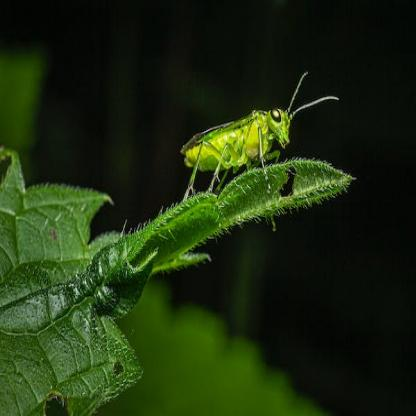sawfly: (178, 63, 342, 206)
